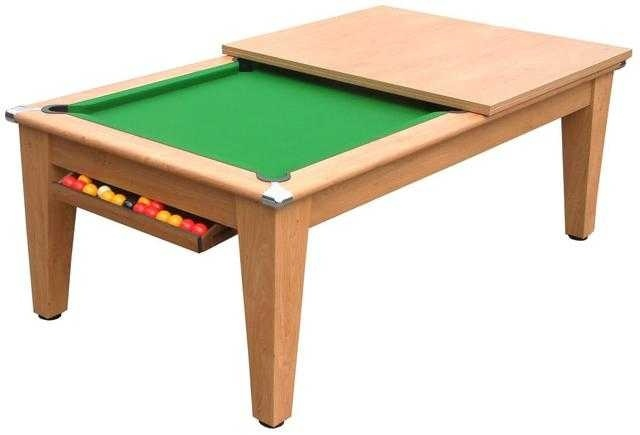obstacle: (0, 0, 639, 432)
